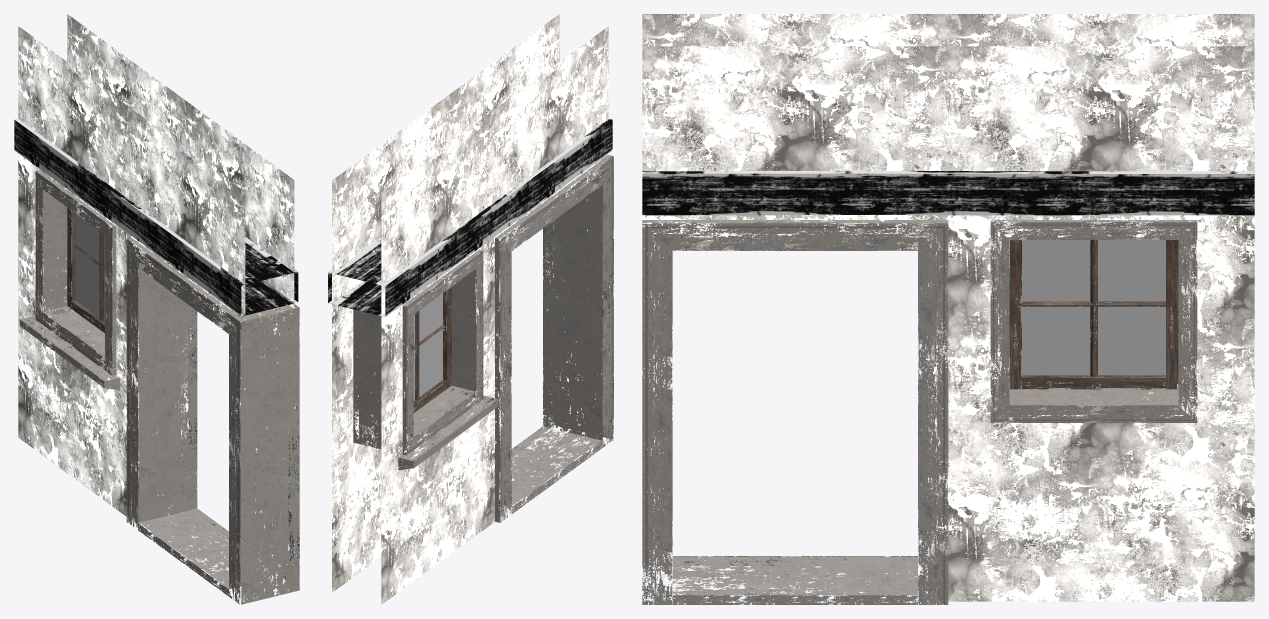
The model's file is SM_wall_A_doorway_4x4_02_02.fbx.
3 views of the same model, side by side, from view 1: azimuth 30°, elevation 25°; view 2: azimuth 150°, elevation 25°; view 3: azimuth 270°, elevation 25° (orthographic). The views are drawn at different scales.
Parts seen in each view (by area): view 1: SM_wall_A_doorway_4x4_02_02_LOD0; view 2: SM_wall_A_doorway_4x4_02_02_LOD0; view 3: SM_wall_A_doorway_4x4_02_02_LOD0.
Boxes of the visible parts, x1,y1,x2,y2 form: SM_wall_A_doorway_4x4_02_02_LOD0: [14, 14, 299, 604]; SM_wall_A_doorway_4x4_02_02_LOD0: [328, 14, 613, 604]; SM_wall_A_doorway_4x4_02_02_LOD0: [642, 14, 1254, 604].
Size of the model in its own units: 71.08 by 400 by 400.
Materials: 6 (5 with a texture image).
